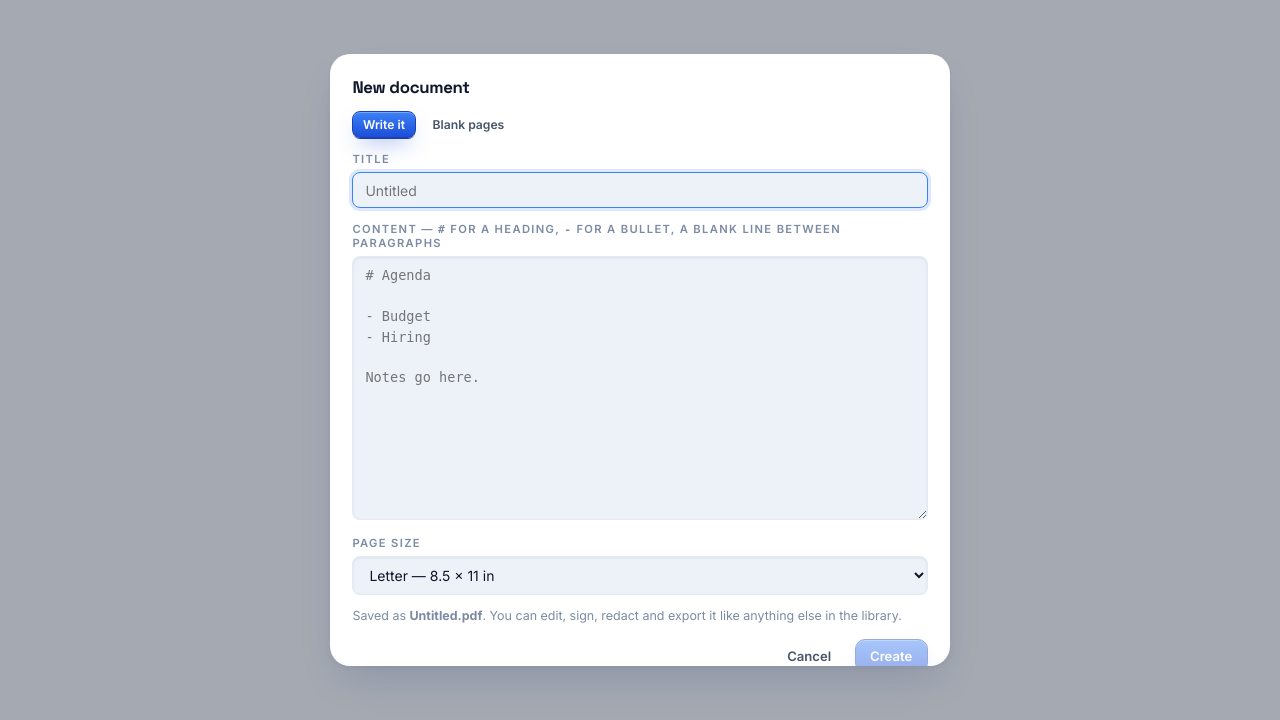
Test: writing a document › previews the filename it is going to use
Type "Q3 report" into the field with placeholder "Untitled".
click(640, 190); type("Q3 report")  # box [352,172,928,208]
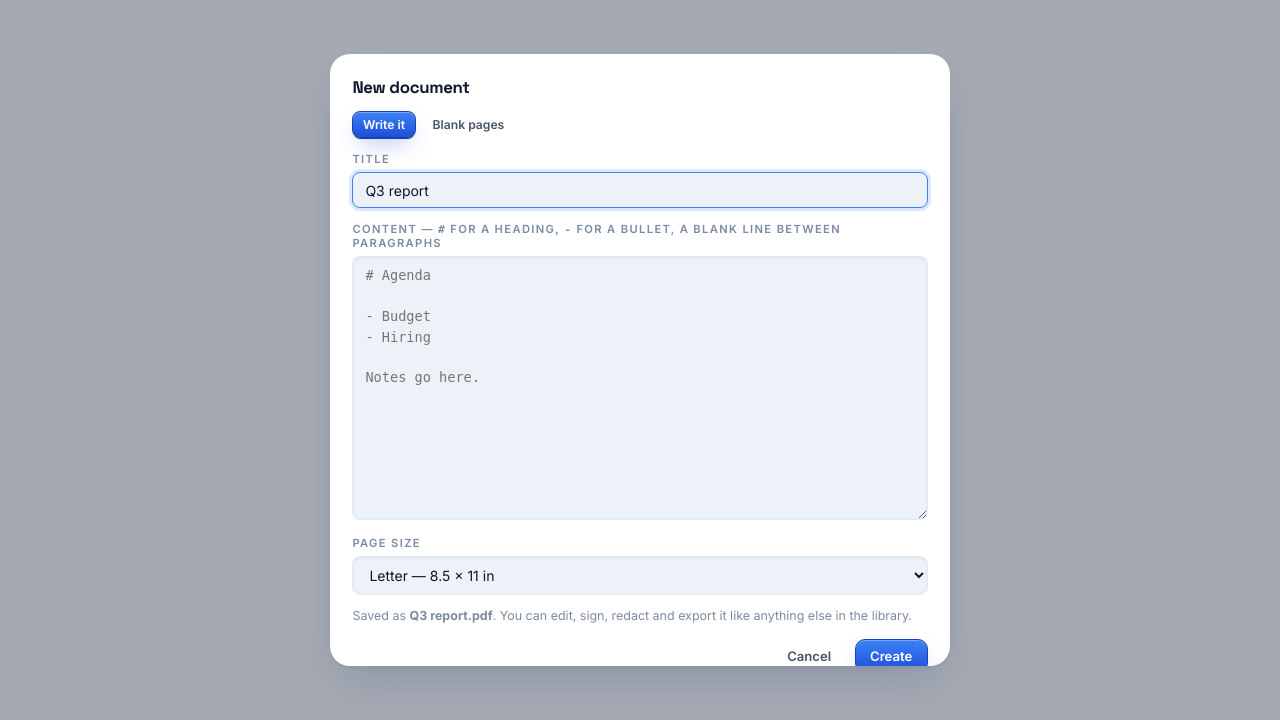
Expected: the text "Q3 report.pdf" is shown, [410,608,493,623]
